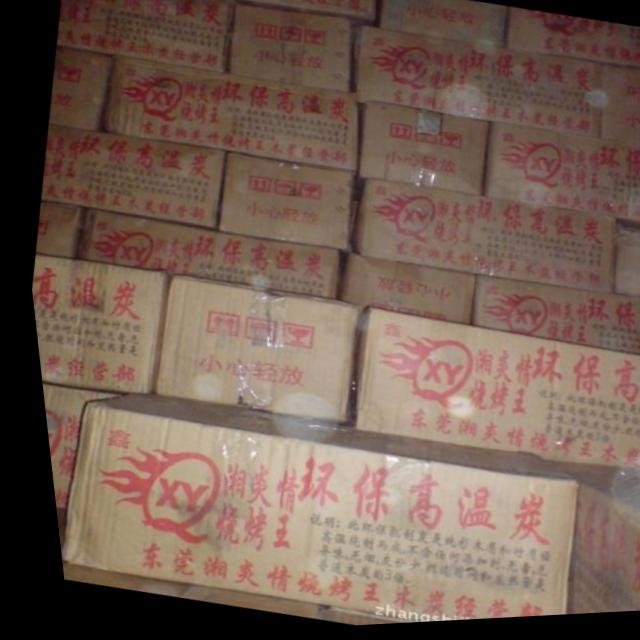box: (48, 394, 568, 626), (337, 313, 640, 478), (141, 276, 349, 427), (342, 182, 608, 299), (99, 57, 354, 176), (349, 28, 598, 143), (70, 209, 337, 302), (36, 125, 221, 231), (25, 254, 162, 394), (529, 462, 640, 620), (477, 126, 640, 228), (464, 279, 640, 363), (210, 154, 347, 253), (55, 0, 230, 75), (353, 104, 485, 200), (226, 5, 351, 96), (34, 383, 117, 506), (330, 257, 469, 329), (503, 12, 640, 74), (375, 0, 507, 50), (45, 45, 111, 133), (596, 69, 640, 151), (229, 0, 375, 23), (29, 199, 80, 260), (604, 230, 640, 304)
